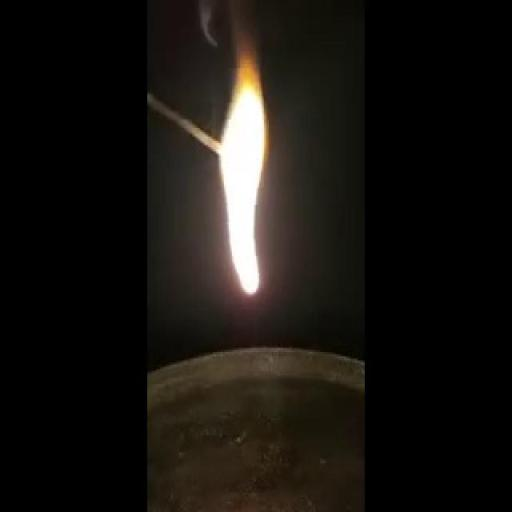smoke: (215, 53, 278, 316)
